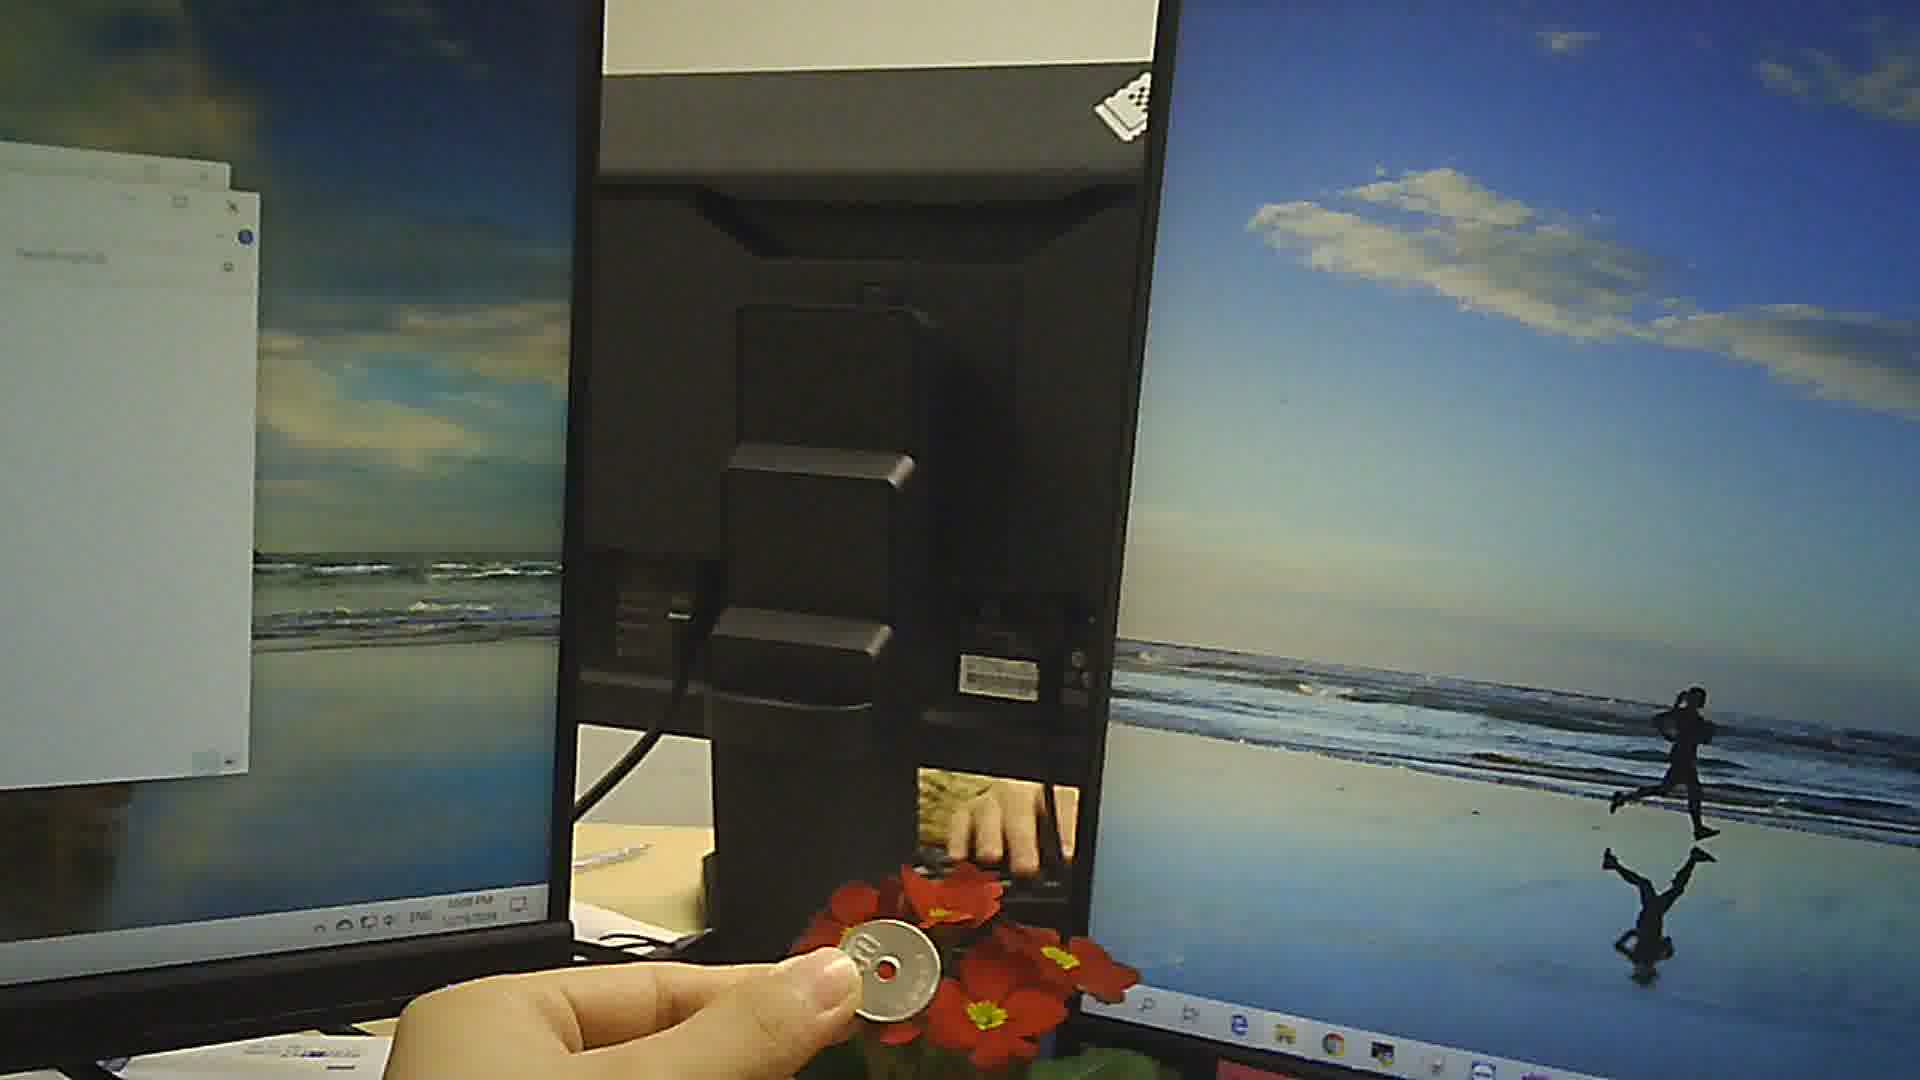50 Yen: (831, 913, 942, 1022)
